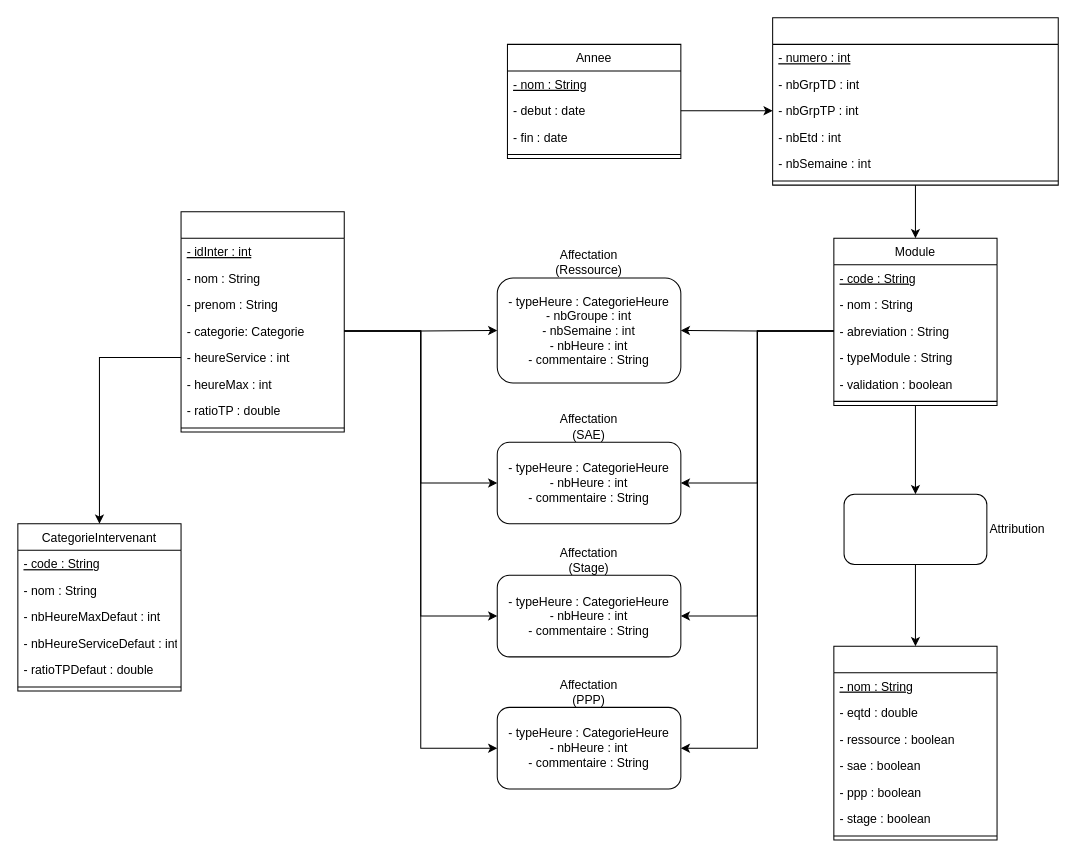
This 1076x858 diagram has some shape labels left out. Here are the shapes that lost their labels. From the top down, the box of each, then its label:
(772, 17, 1058, 185): Semestre
(180, 211, 344, 432): Intervenant
(843, 493, 987, 565): - nbHeure : int - nbSemaine : int (F)
(833, 645, 997, 840): CategorieHeure
